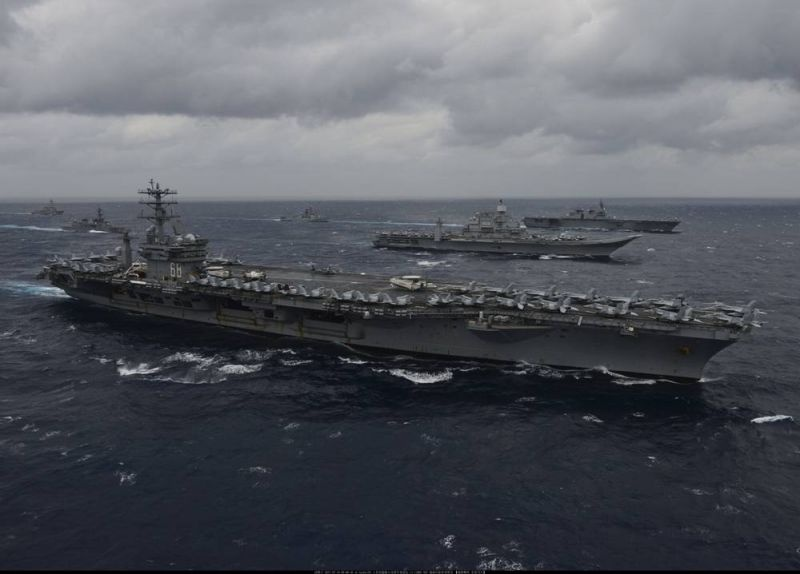warship: (27, 177, 762, 394), (364, 191, 652, 263), (518, 197, 685, 234), (58, 204, 137, 240), (279, 203, 329, 227), (26, 197, 65, 218)
